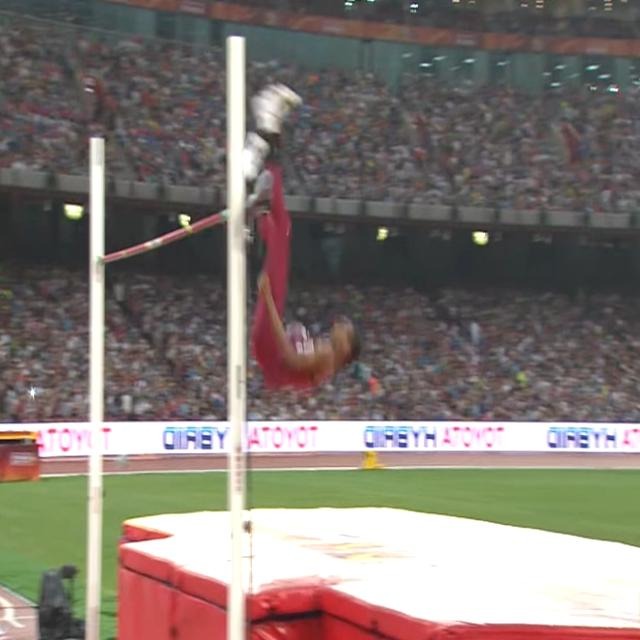land: (244, 81, 357, 388)
